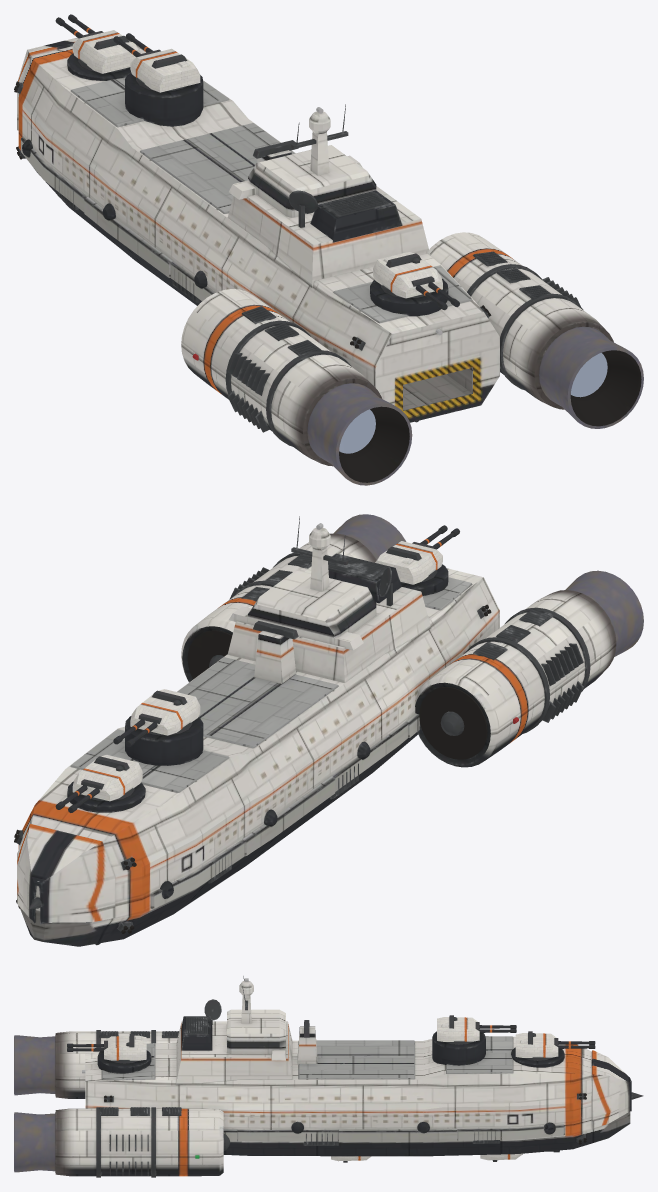
The model's file is halberd.glb.
The picture shows the model from 3 angles, top to bottom: view 1: azimuth 30°, elevation 25°; view 2: azimuth 150°, elevation 25°; view 3: azimuth 270°, elevation 25°; orthographic projection. The views are drawn at different scales.
Visible parts, largest first — view 1: hull, turret_01, turret_02, turret_00; view 2: hull, turret_00, turret_01, turret_02; view 3: hull, turret_00, turret_01, turret_02, turret_01_gun, turret_00_gun, turret_02_gun.
Part boxes in pixels (x1,y1,x2,y2): hull: [14, 37, 643, 485]; turret_01: [130, 48, 200, 92]; turret_02: [373, 252, 442, 298]; turret_00: [72, 30, 141, 73]; hull: [14, 514, 643, 946]; turret_00: [72, 755, 142, 801]; turret_01: [130, 689, 200, 735]; turret_02: [375, 541, 442, 584]; hull: [14, 976, 643, 1177]; turret_00: [515, 1031, 558, 1060]; turret_01: [437, 1015, 479, 1044]; turret_02: [104, 1034, 146, 1063]; turret_01_gun: [475, 1022, 516, 1032]; turret_00_gun: [554, 1038, 595, 1048]; turret_02_gun: [67, 1040, 107, 1051].
Bounding box in the file's own units: 65.67 × 50.58 × 160.
Materials: 2 (2 with a texture image).
